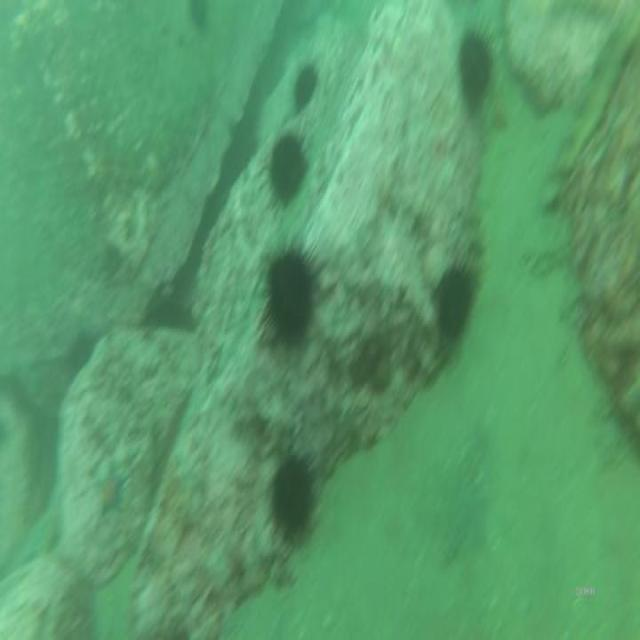echinus: (268, 442, 322, 547), (266, 239, 316, 349), (431, 256, 482, 348), (262, 127, 316, 210), (459, 19, 497, 109), (288, 62, 320, 112)
holothurian: (544, 5, 638, 193)
starfish: (95, 463, 126, 520)
